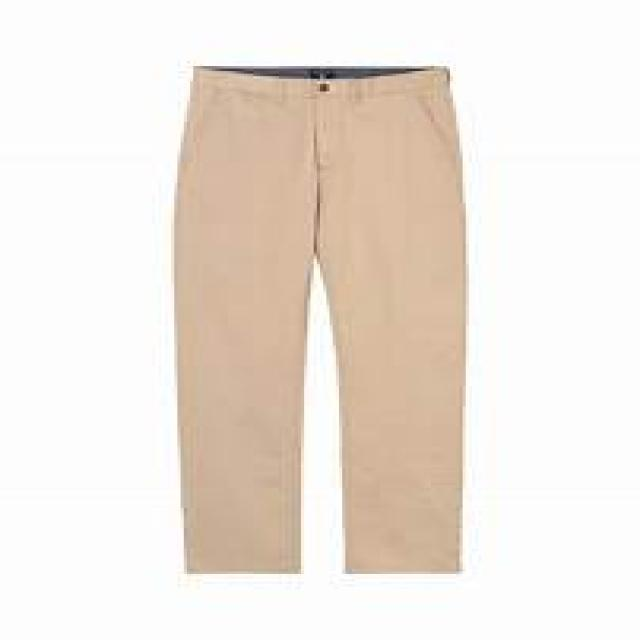long-pants: (174, 63, 469, 580)
